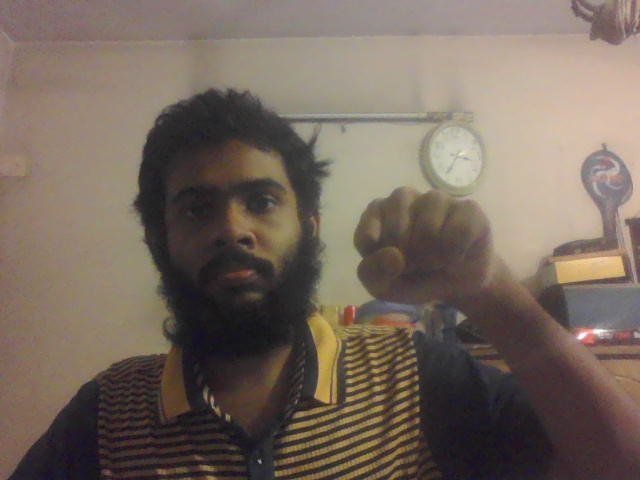Yes: (343, 185, 493, 309)
